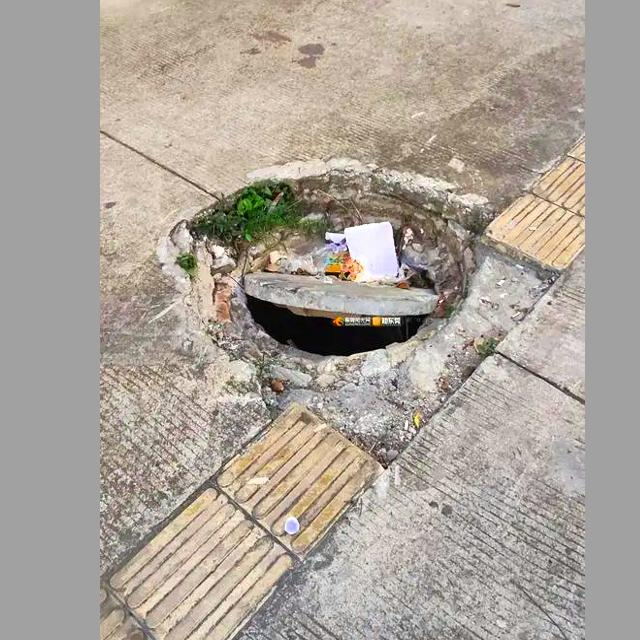circle: (142, 151, 539, 447)
